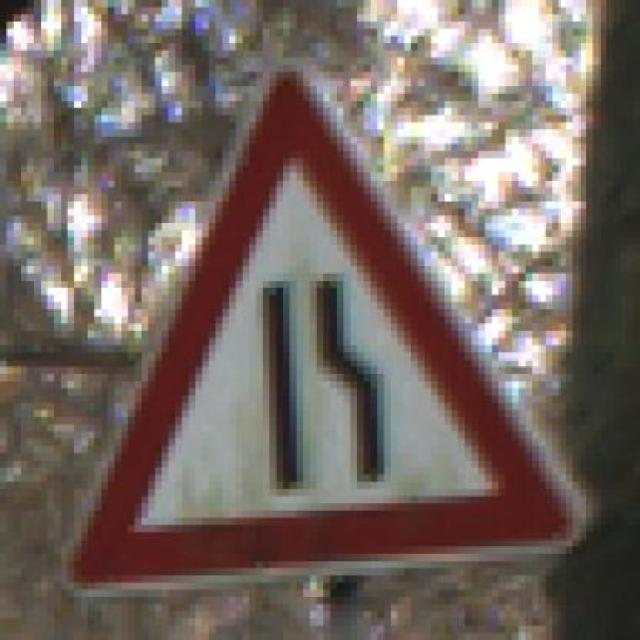-Road narrows on right: (60, 51, 600, 597)
